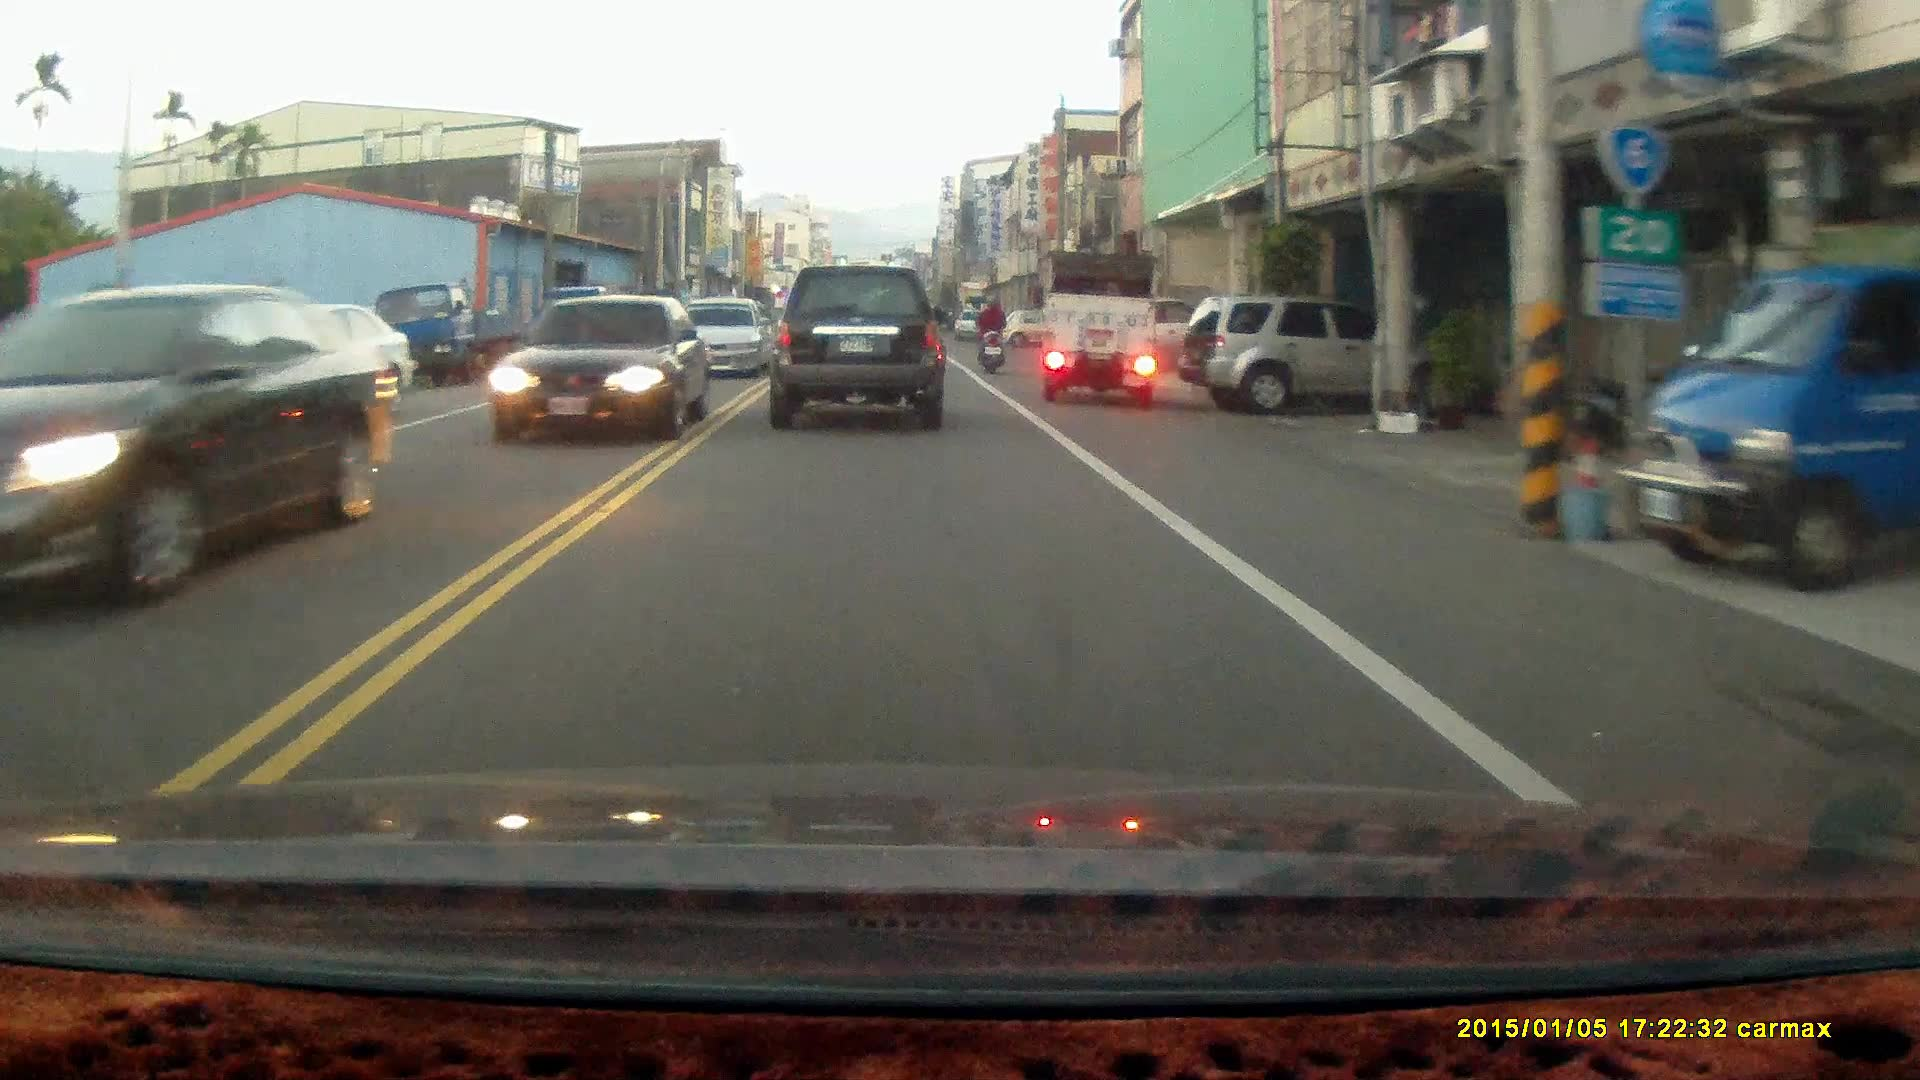rider: (970, 287, 1007, 372)
vehicle: (1, 277, 402, 617), (1623, 211, 1920, 599), (168, 298, 423, 454), (492, 287, 707, 442), (767, 263, 948, 428), (1179, 290, 1388, 411), (1042, 246, 1159, 398), (681, 296, 769, 378)
